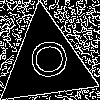O: (21, 37, 69, 82)
